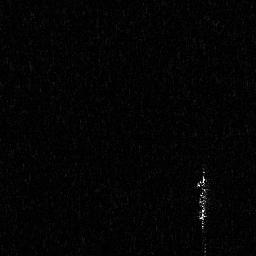ship: (194, 164, 212, 232)
